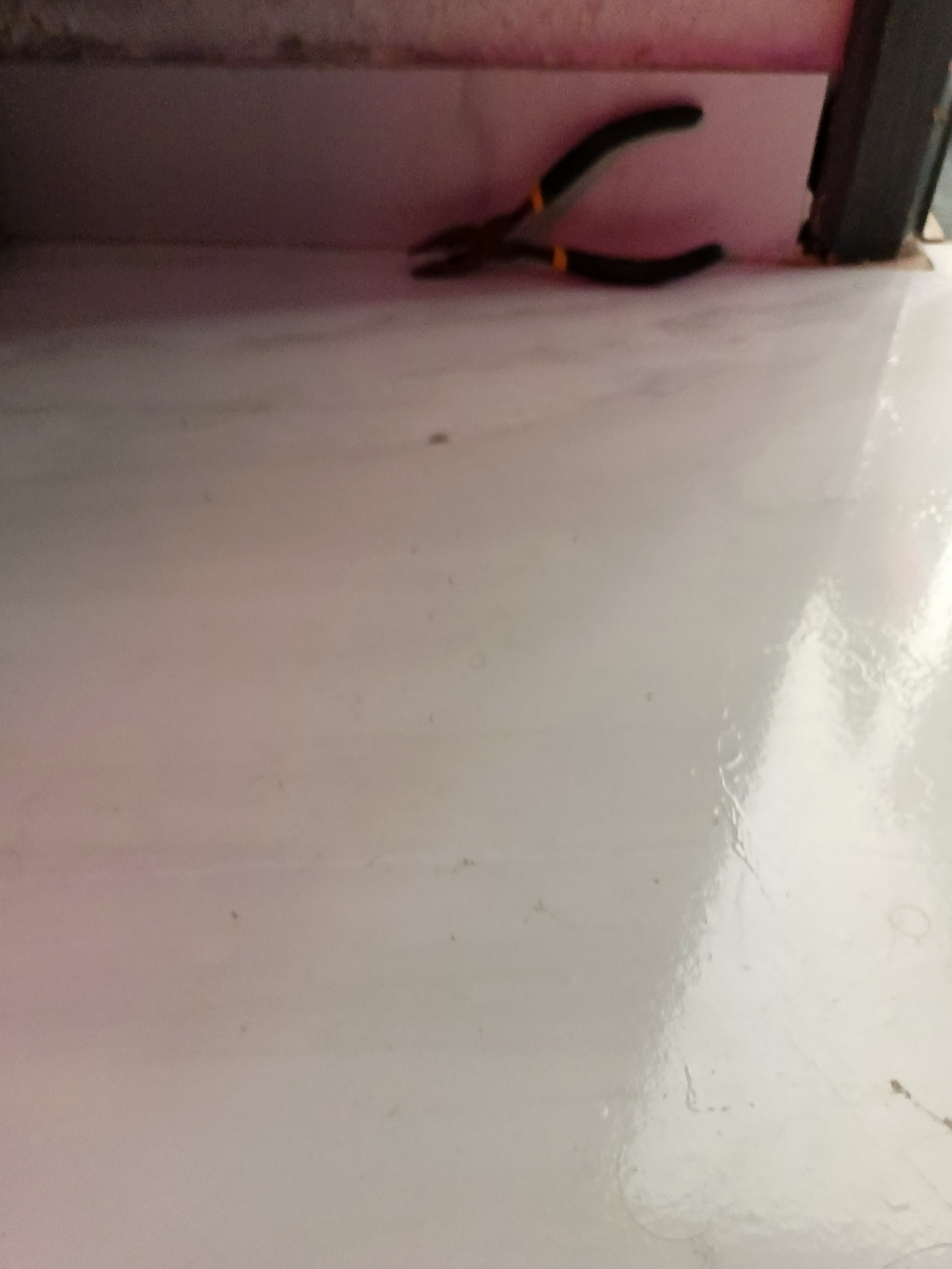Pinzas: (408, 100, 726, 287)
